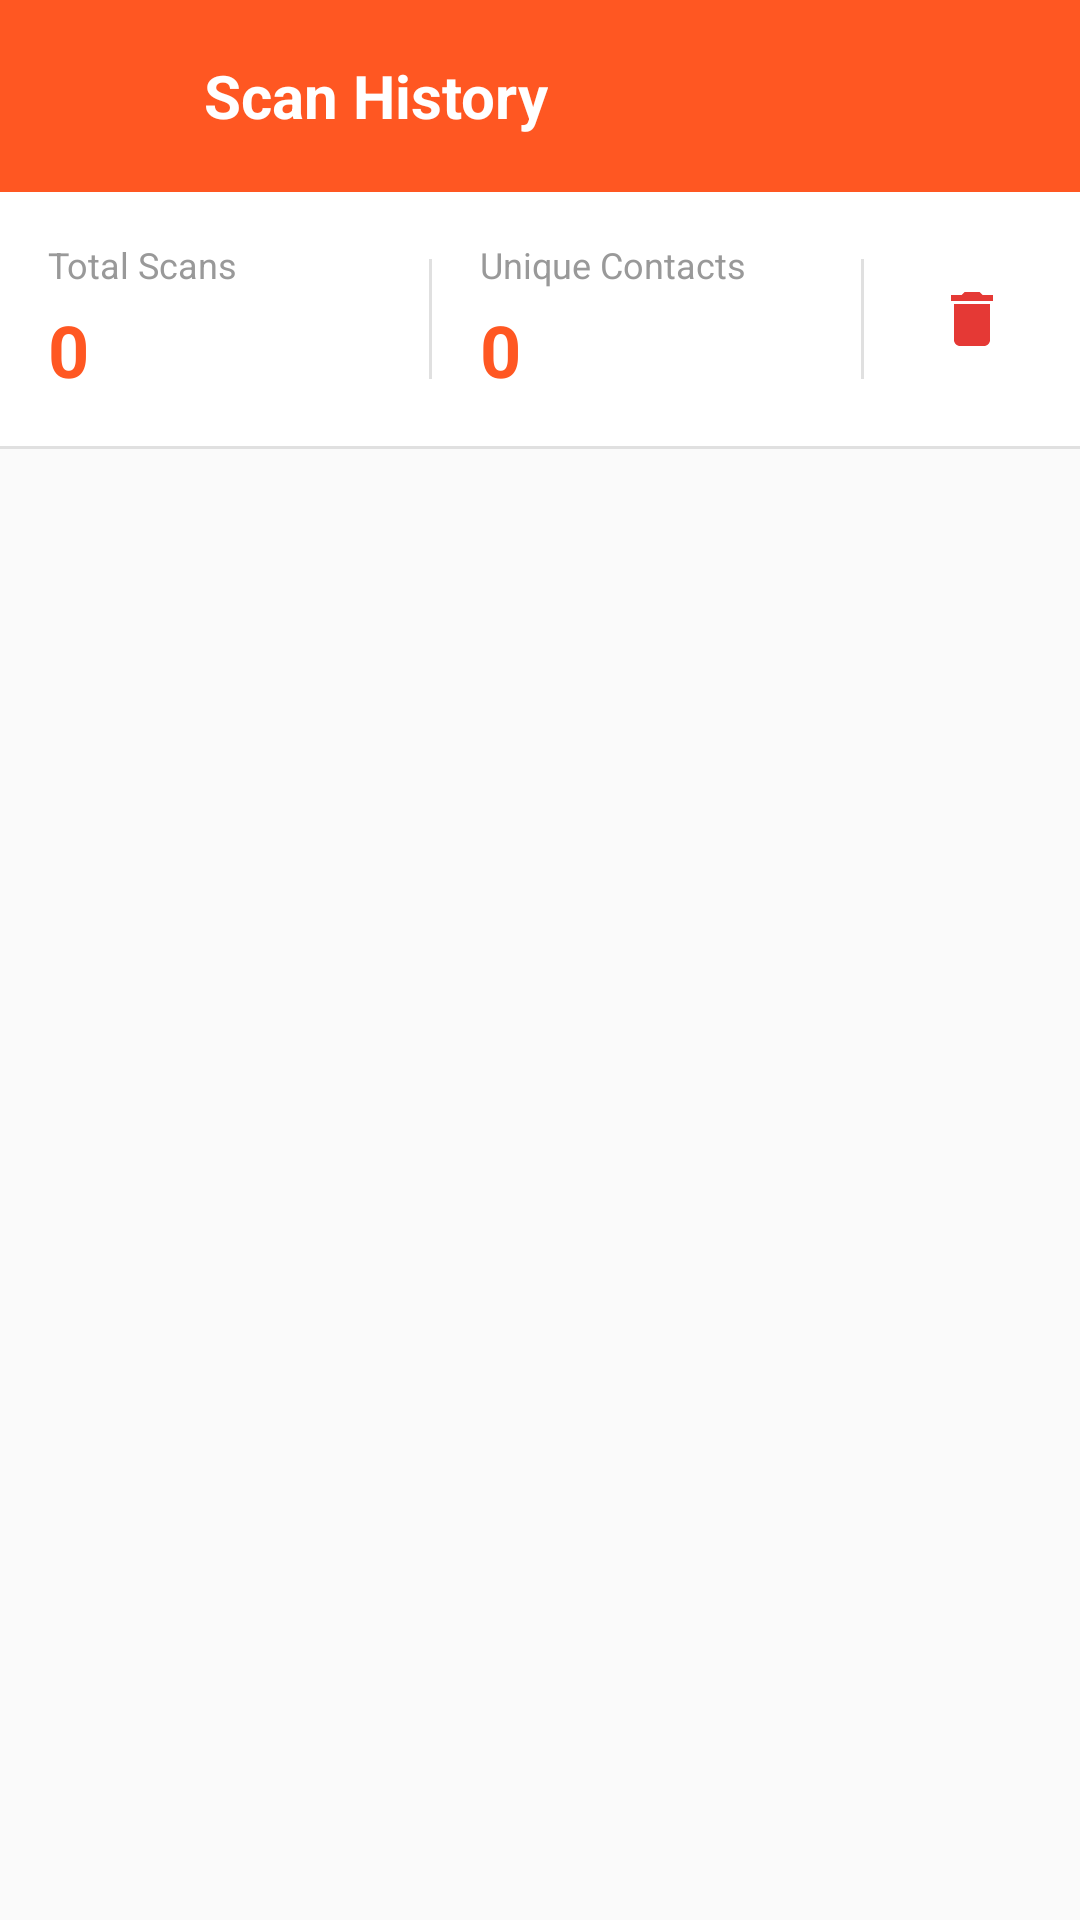

Icon click points for this 1080×1920 phone screenshot, format [x,y]:
Clear history: [972,319]
